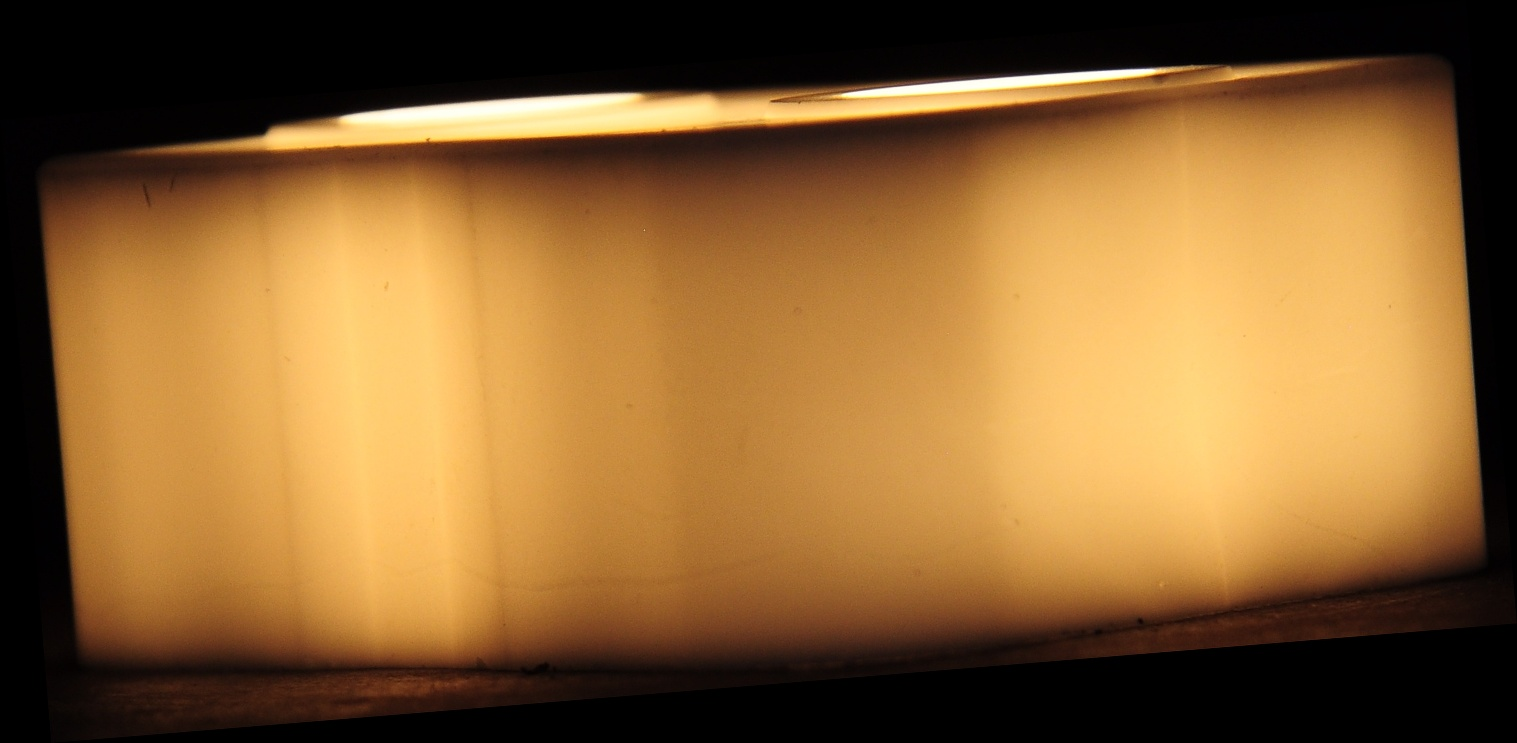flaw: (393, 542, 903, 587)
hiatus: (1144, 69, 1181, 89)
protrusion: (418, 127, 436, 151), (792, 94, 807, 113)
